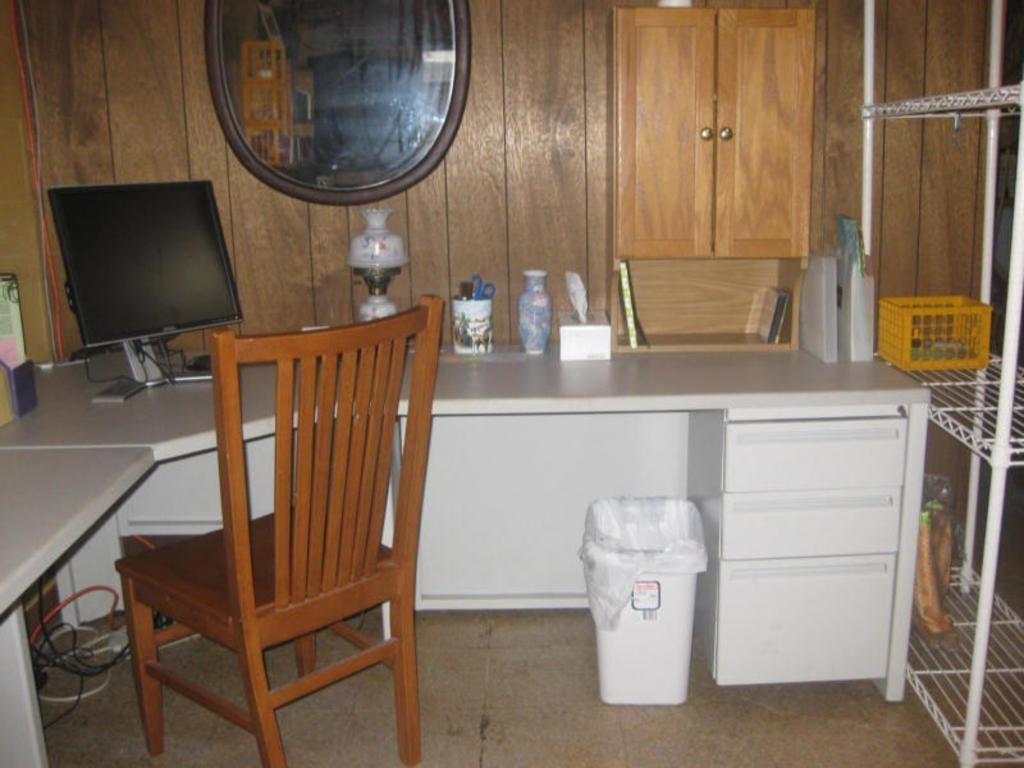AIO PC-Monitor-TV: (47, 179, 243, 406)
Filing Cabinet: (713, 402, 909, 685)
Kursi: (112, 294, 444, 767)
Meja: (428, 342, 932, 458)
